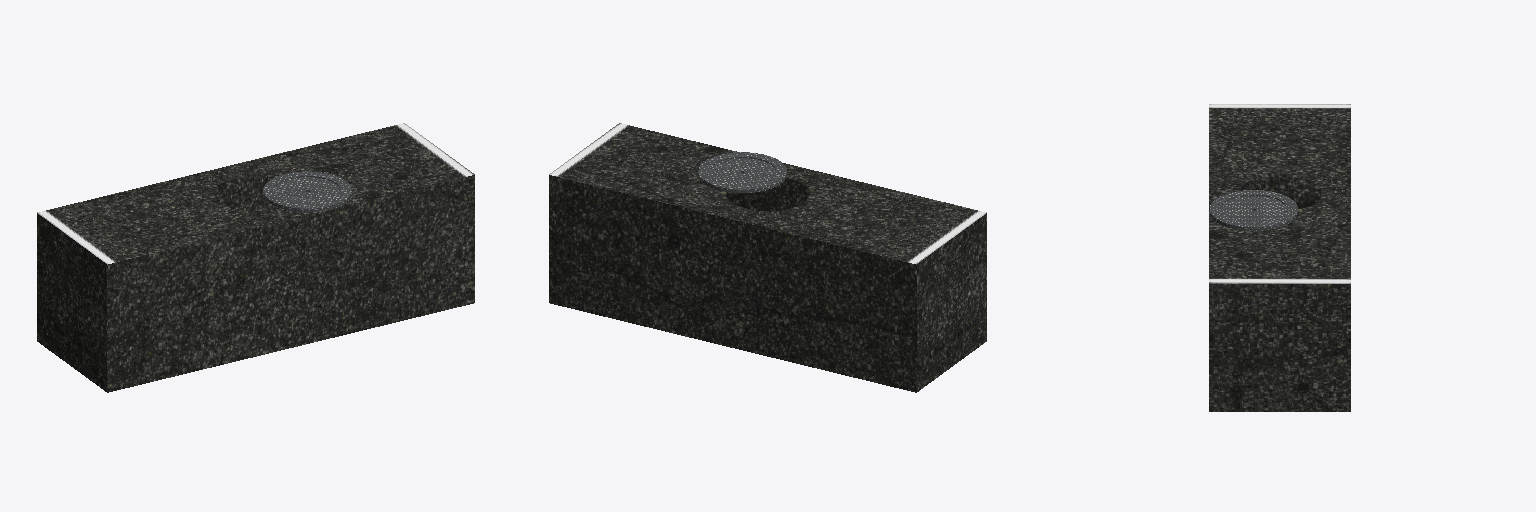
3 renders of one model, left to right at view 1: azimuth 30°, elevation 25°; view 2: azimuth 150°, elevation 25°; view 3: azimuth 270°, elevation 25°, orthographic.
Visible parts, largest first — view 1: Cube.002_Cube.003; view 2: Cube.002_Cube.003; view 3: Cube.002_Cube.003.
Part boxes in pixels (x1,y1,x2,y2): Cube.002_Cube.003: (37,123,474,392); Cube.002_Cube.003: (549,123,986,392); Cube.002_Cube.003: (1209,104,1350,411).
Bounding box in the file's own units: 3 × 1.03 × 1.
Materials: 1 (1 with a texture image).